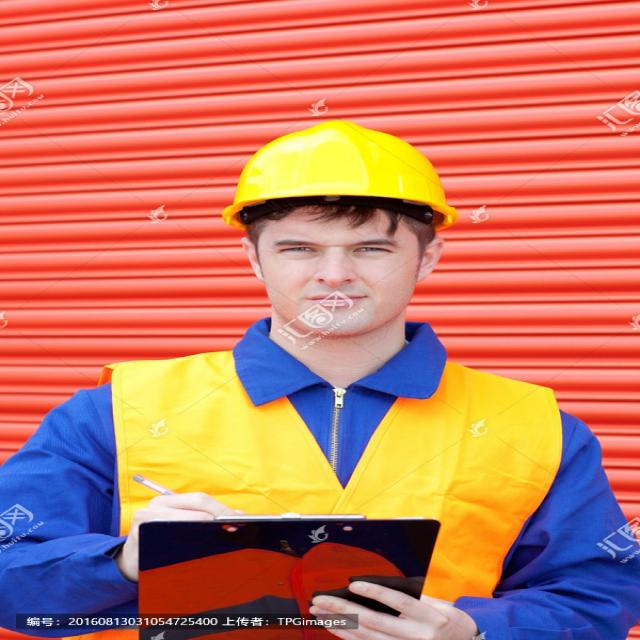Reflective-Jacket: (106, 345, 563, 640)
Safety-Helmet: (214, 119, 464, 228)
